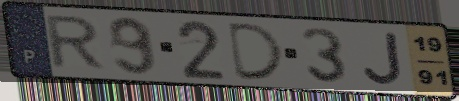2: (175, 17, 229, 83)
3: (299, 27, 350, 85)
9: (106, 15, 157, 77)
D: (226, 21, 289, 82)
J: (361, 30, 406, 87)
R: (44, 14, 109, 71)
